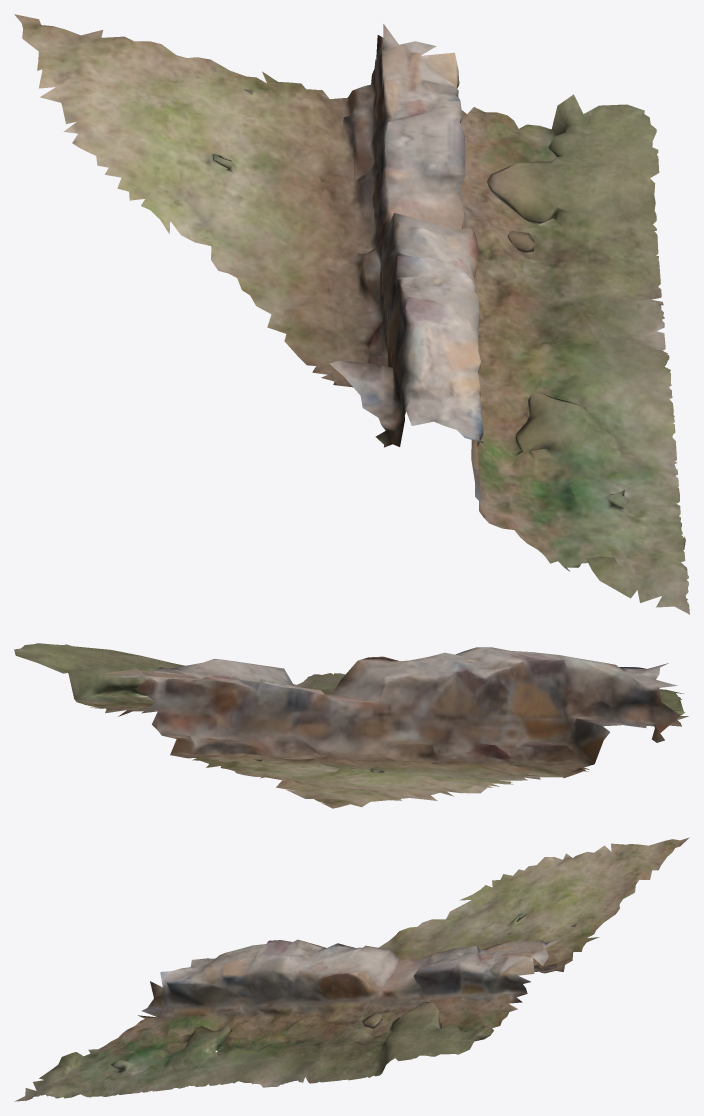
Rendered from cpuzzle500_9.glb.
3 views of the same model, one above another, from view 1: azimuth 30°, elevation 25°; view 2: azimuth 150°, elevation 25°; view 3: azimuth 270°, elevation 25° (orthographic). The views are drawn at different scales.
Parts seen in each view (by area): view 1: Mesh_0.003; view 2: Mesh_0.003; view 3: Mesh_0.003.
Boxes of the visible parts, x1=… form: Mesh_0.003: x1=14, y1=14, x2=689, y2=614; Mesh_0.003: x1=14, y1=643, x2=688, y2=808; Mesh_0.003: x1=14, y1=837, x2=689, y2=1101.
Size of the model in its own units: 8.33 by 4.57 by 13.96.
1 material, 1 textured.
